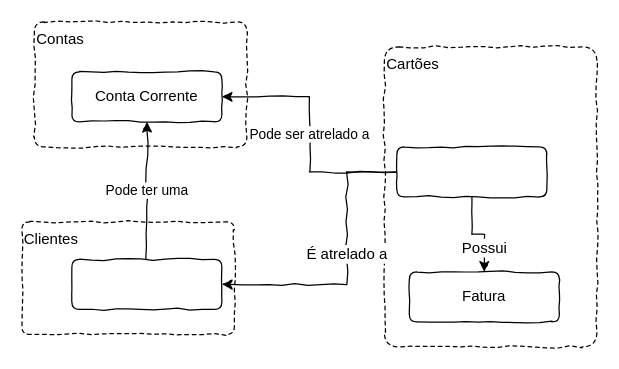
Some shapes in this 619 by 369 pixel diagram are drawn without their labels. Each missing label, with the centre of its shape:
"Cartão" goes at [471,171].
"Cliente" goes at [146,283].
